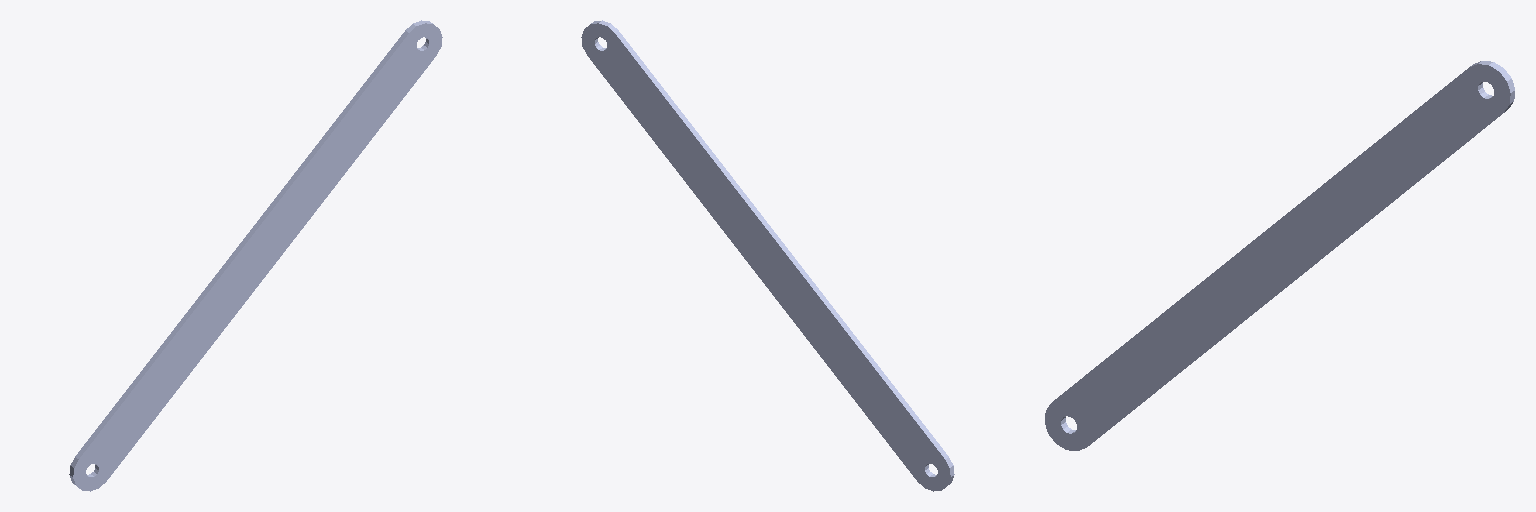
The robot description file, URDF, robot "biorob_single":
<?xml version="1.0" encoding="utf-8"?>

<robot name="biorob_single">

  <material name="my_color">
    <color rgba="0.792156862745098 0.819607843137255 0.933333333333333 1"/>
  </material>

  <link name="world">
    <inertial>
      <mass value="0"/>
      <inertia ixx="0.2125" ixy="-0.005" ixz="0.0225" iyy="0.205" iyz="0.045" izz="0.0125"/>
      <origin rpy="0 0 0" xyz="0 0 0"/>
    </inertial>
  </link>

  <joint name="vertical" type="prismatic">
    <parent link="world"/>
    <child link="base"/>
    <axis xyz="0 0 1"/>
    <limit effort="1000.0" lower="-10.0" upper="10.0" velocity="1000.0"/>
    <origin rpy="0 0 0" xyz="0 0 0"/>
    <dynamics damping="0.0" friction="0.0"/>
  </joint>

  <link name="base">
    <inertial>
      <!--<origin xyz="0.0831427778394597 3.86204305295729E-05 -0.0221857216976716" rpy="0 0 0"/>-->
      <origin xyz="0 0 0.00035767" rpy="0 0 0"/>
      <!-- <mass value="0.044641"/> -->
      <mass value="0.347"/>
      <inertia ixx="1.07064574647733E-05" ixy="7.22854061288986E-08" ixz="1.00771242903768E-05" iyy="0.000149666775033116" iyz="-5.95628415101381E-09" izz="0.000152711682596983"/>
    </inertial>
    <visual>
      <origin xyz="0 0 0" rpy="0 0 0"/>
      <geometry>
        <mesh filename="package://meshes/solo_foot.stl"/>
      </geometry>
      <material name="my_color"/>
    </visual>
    <collision>
      <origin xyz="0 0 0" rpy="0 0 0"/>
      <geometry>
        <mesh filename="package://meshes/solo_foot.stl"/>
      </geometry>
      <material name="my_color"/>
    </collision>
    <contact>
      <lateral_friction value="1.0"/>
      <restitution value="0.5"/>
    </contact>
  </link>

  <joint name="hip" type="revolute">
    <parent link="base"/>
    <child link="thigh"/>
    <origin xyz="0 0 0" rpy="-1.570796 0 0"/>
    <axis xyz="0 0 1"/>
    <limit effort="2.7" lower="-3.141593" upper="3.141593" velocity="1.0"/>
    <dynamics damping="0.0" friction="0.0"/>
  </joint>

  <link name="thigh">
    <inertial>
      <origin xyz="0.058816 0.058762 0.020686" rpy="0 0 0"/>
      <mass value="0.044644"/>
      <inertia ixx="8.026E-05" ixy="-6.9479E-05" ixz="-7.12E-06" iyy="8.0113E-05" iyz="-7.1287E-06" izz="0.00015271"/>
    </inertial>
    <visual>
      <origin xyz="0 0 0" rpy="0 0 0"/>
      <geometry>
        <mesh filename="package://meshes/thigh.STL"/>
      </geometry>
      <material name="my_color"/>
    </visual>
    <collision>
      <origin xyz="0 0 0" rpy="0 0 0"/>
      <geometry>
        <mesh filename="package://meshes/thigh.STL"/>
      </geometry>
      <material name="my_color"/>
    </collision>
    <contact>
      <lateral_friction value="1.0"/>
      <restitution value="0.5"/>
    </contact>
  </link>

  <joint name="thigh_rod" type="revolute">
    <parent link="thigh"/>
    <child link="rod"/>
    <origin xyz="0.067953 0.067953 0.035" rpy="0 0 0.785398"/>
    <axis xyz="0 0 1"/>
    <limit effort="2.7" lower="-3.141593" upper="3.141593" velocity="1.0"/>
    <dynamics damping="0.0" friction="0.0"/>
  </joint>

  <link name="rod">
    <inertial>
      <origin xyz="1.9429E-16 0.0715 0.001" rpy="0 0 0"/>
      <mass value="0.003608"/>
      <inertia ixx="6.8334E-06" ixy="-1.7121E-20" ixz="-5.5899E-23" iyy="4.4372E-08" iyz="-3.9372E-21" izz="6.8753E-06"/>
    </inertial>
    <visual>
      <origin xyz="0 0 0" rpy="0 0 0"/>
      <geometry>
        <mesh filename="package://meshes/rod.STL"/>
      </geometry>
      <material name="my_color"/>
    </visual>
    <collision>
      <origin xyz="0 0 0" rpy="0 0 0"/>
      <geometry>
        <mesh filename="package://meshes/rod.STL"/>
      </geometry>
      <material name="my_color"/>
    </collision>
    <contact>
      <lateral_friction value="1.0"/>
      <restitution value="0.5"/>
    </contact>
  </link>

  <joint name="knee" type="revolute">
  	<parent link="thigh"/>
    <child link="calf"/>
    <origin xyz="0.11314 0.11314 0.037" rpy="0 0 0.785398"/>
    <axis xyz="0 0 1"/>
		<limit effort="2.7" lower="-1.0" upper="1.0" velocity="1.0"/>
    <dynamics damping="0.0" friction="0.0"/>
  </joint>

  <link name="calf">
    <inertial>
      <origin xyz="-7.1892E-06 0.076422 0.019405" rpy="0 0 0"/>
      <mass value="0.031037"/>
      <inertia ixx="8.8228E-05" ixy="-1.069E-08" ixz="-2.9495E-10" iyy="7.3361E-06" iyz="-4.7017E-06" izz="8.9478E-05"/>
    </inertial>
    <visual>
      <origin xyz="0 0 0" rpy="0 0 0"/>
      <geometry>
        <mesh filename="package://meshes/calf.STL"/>
      </geometry>
      <material name="my_color"/>
    </visual>
    <collision>
      <origin xyz="0 0 0" rpy="0 0 0"/>
      <geometry>
        <mesh filename="package://meshes/calf.STL"/>
      </geometry>
      <material name="my_color"/>
    </collision>
    <contact>
      <lateral_friction value="1.0"/>
      <restitution value="0.5"/>
    </contact>
  </link>

  <joint name="ankle" type="revolute">
  	<parent link="calf"/>
    <child link="foot"/>
    <origin xyz="0 0.143 0.007" rpy="-3.141593 0 1.570796"/>
    <axis xyz="0 0 1"/>
    <limit effort="2.7" lower="-3.141593" upper="3.141593" velocity="1.0"/>
    <dynamics damping="0.0" friction="0.0"/>
  </joint>

  <link name="foot">
    <inertial>
      <origin xyz="8.5821E-08 0.026891 0.018136" rpy="0 0 0"/>
      <mass value="0.036462"/>
      <inertia ixx="0.00014425" ixy="-1.3782E-11" ixz="6.4865E-11" iyy="8.1994E-06" iyz="8.9033E-07" izz="0.00014709"/>
    </inertial>
    <visual>
      <origin xyz="0 0 0" rpy="0 0 0"/>
      <geometry>
        <mesh filename="package://meshes/foot.STL"/>
      </geometry>
      <material name="my_color"/>
    </visual>
    <collision>
      <origin xyz="0 0 0" rpy="0 0 0"/>
      <geometry>
        <mesh filename="package://meshes/foot.STL"/>
      </geometry>
      <material name="my_color"/>
    </collision>
    <contact>
      <lateral_friction value="1.0"/>
      <restitution value="0.5"/>
    </contact>
  </link>

  <joint name="foot_toe" type="revolute">
  	<parent link="foot"/>
    <child link="toe"/>
    <origin xyz="0 0.115 0" rpy="-3.141593 0 1.570796"/>
    <axis xyz="0 0 1"/>
    <!-- this one for free toe -->
    <limit effort="2.7" lower="-1.0" upper="3.5" velocity="1.0"/> 
    <!-- this one for blocked toe -->
    <!-- <limit effort="2.7" lower="-1.0" upper="0.5" velocity="1.0"/>      -->
    <dynamics damping="0.0" friction="0.0"/>
  </joint>

  <link name="toe">
    <inertial>
      <origin xyz="0.013812 -0.013812 0.012641" rpy="0 0 0"/>
      <mass value="0.012001"/>
      <inertia ixx="4.3784E-06" ixy="2.0604E-06" ixz="-5.9547E-08" iyy="4.3784E-06" iyz="5.9547E-08" izz="7.3202E-06"/>
    </inertial>
    <visual>
      <origin xyz="0 0 0" rpy="0 0 0"/>
      <geometry>
        <mesh filename="package://meshes/toe.STL"/>
      </geometry>
      <material name="my_color"/>
    </visual>
    <collision>
      <origin xyz="0 0 0" rpy="0 0 0"/>
      <geometry>
        <mesh filename="package://meshes/toe.STL"/>
      </geometry>
    </collision>
    <contact>
      <lateral_friction value="1.0"/>
      <restitution value="0.5"/>
    </contact>
  </link>

</robot>

--- Render facts (derived) ---
Views: 3 orthographic renders of the robot side by side, from view 1: azimuth 30°, elevation 25°; view 2: azimuth 150°, elevation 25°; view 3: azimuth 330°, elevation 25°.
Robot: biorob_single — 7 links, 6 joints (5 revolute, 1 prismatic); root link world; default pose: every joint at zero.
Links seen in each view (by area): view 1: rod; view 2: rod; view 3: rod.
Link boxes in pixels (x1,y1,x2,y2): rod: (69, 20, 442, 491); rod: (581, 20, 954, 491); rod: (1045, 61, 1514, 450).
Size in the robot's own frame: 0.113 by 0.002 by 0.113 metres.
Meshes: 6 distinct files referenced, 1 mesh visuals loaded (1 binary STL); not drawn: 5 (reference not matched to a file when rendering).